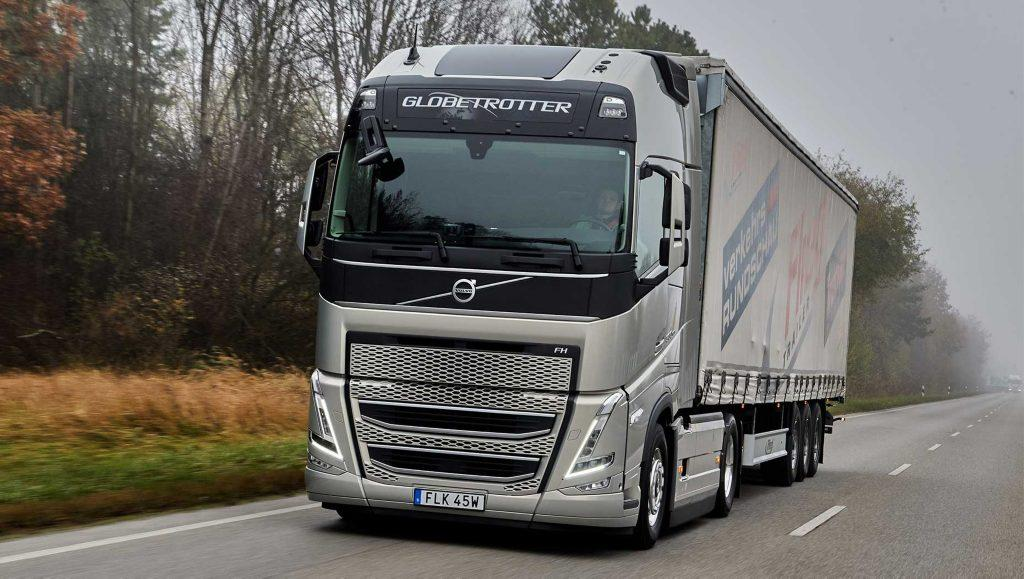truck: (304, 42, 857, 550)
